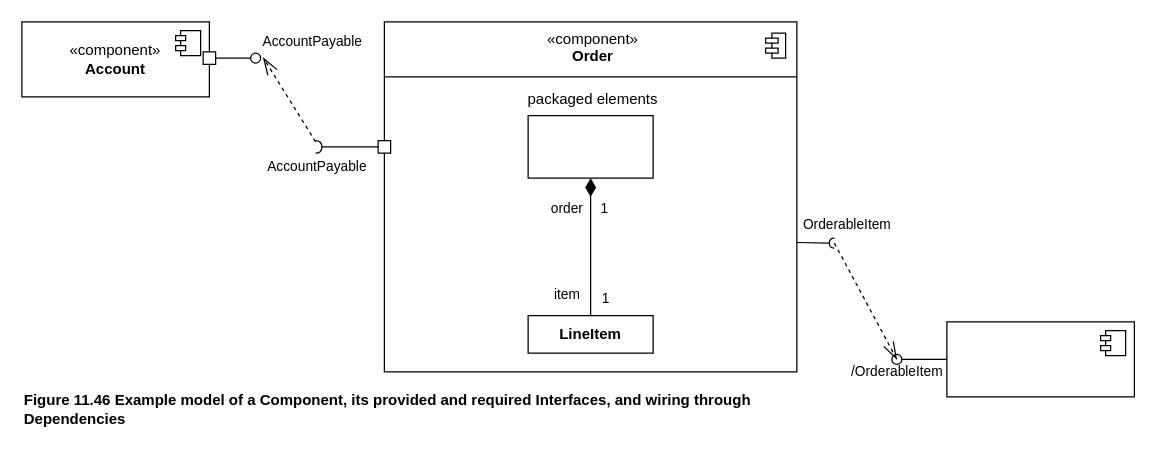
Image size: 1156x456. Some labels were removed from this diagram. Each missing label, with the box of its shape:
«component» Product: (946, 321, 1134, 397)
«Focus» OrderHeader: (527, 114, 653, 178)
